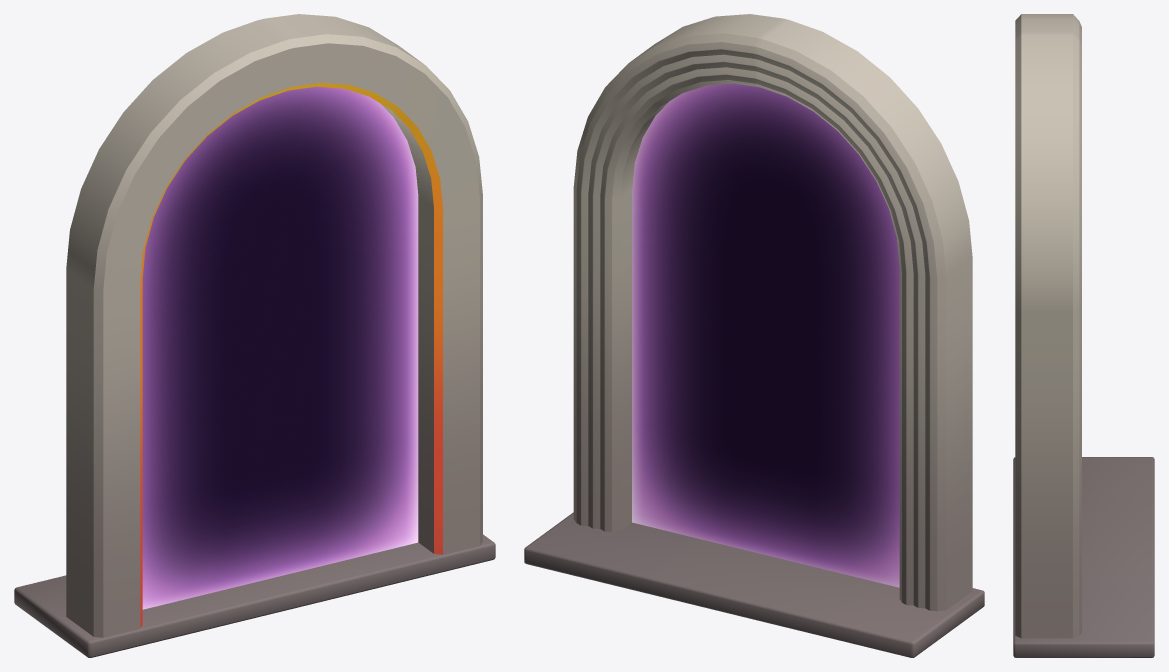
File: portalFrame.glb
The picture shows the model from 3 angles, left to right: view 1: azimuth 30°, elevation 25°; view 2: azimuth 150°, elevation 25°; view 3: azimuth 270°, elevation 25°; orthographic projection. The views are drawn at different scales.
Parts seen in each view (by area): view 1: Back, Cube.006, Cube.007; view 2: Back, Cube.006, Cube.007; view 3: Cube.006, Cube.007.
Boxes of the visible parts, box(x1,y1,x2,y2) form: Back: box(142, 86, 418, 609); Cube.006: box(66, 14, 482, 637); Cube.007: box(14, 534, 495, 657); Back: box(632, 83, 899, 587); Cube.006: box(573, 14, 972, 611); Cube.007: box(524, 512, 984, 657); Cube.006: box(1015, 14, 1081, 638); Cube.007: box(1013, 457, 1154, 657).
Size of what is drawn, in the model's own units: 2.8 by 3.72 by 0.8973.
Materials: 3 (3 with a texture image).
